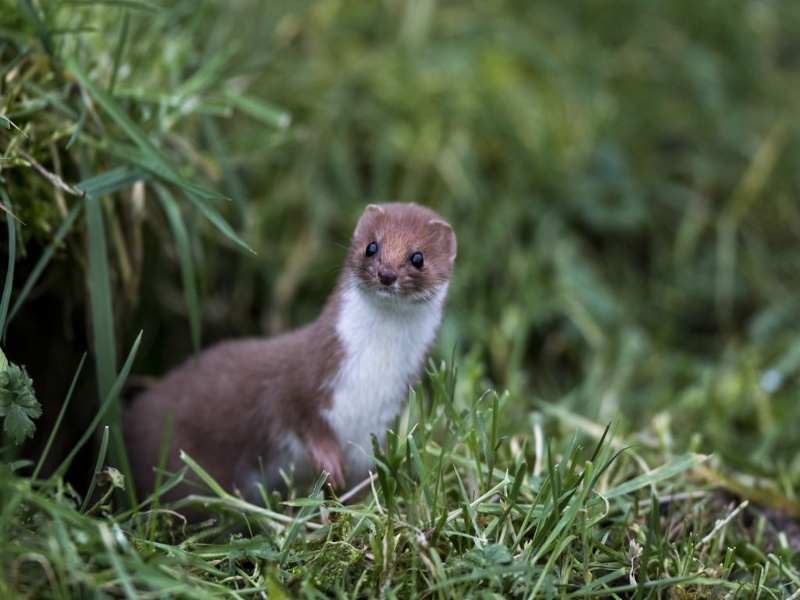minkish: (98, 194, 465, 542)
